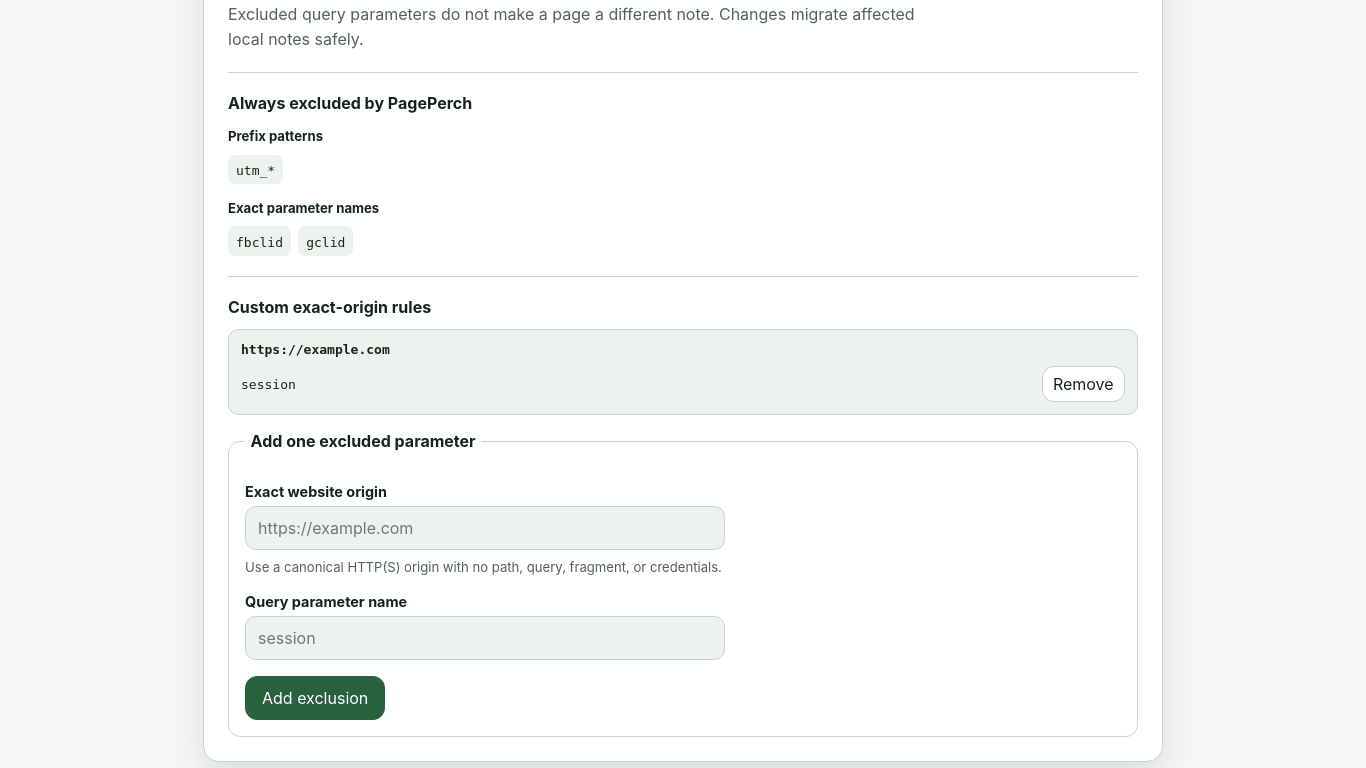
OptionsApp › removes one parameter through the executor, refreshes, and removes an empty origin rule
(page scrolled)
Click the button with aria-label "Remove session from https://example.com" at coordinates (1083, 384), box [1042, 366, 1125, 402]
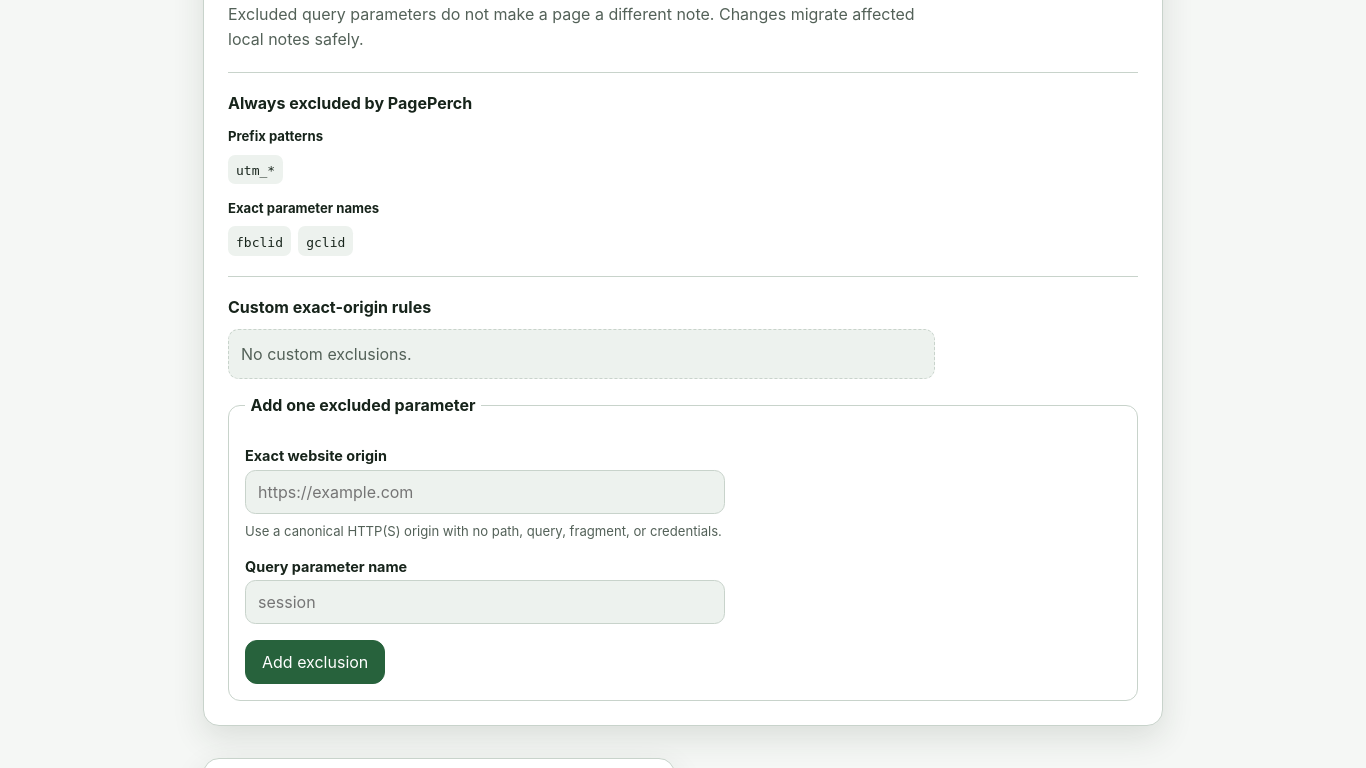
Now the text "No custom exclusions." is shown, box [228, 329, 935, 379]
